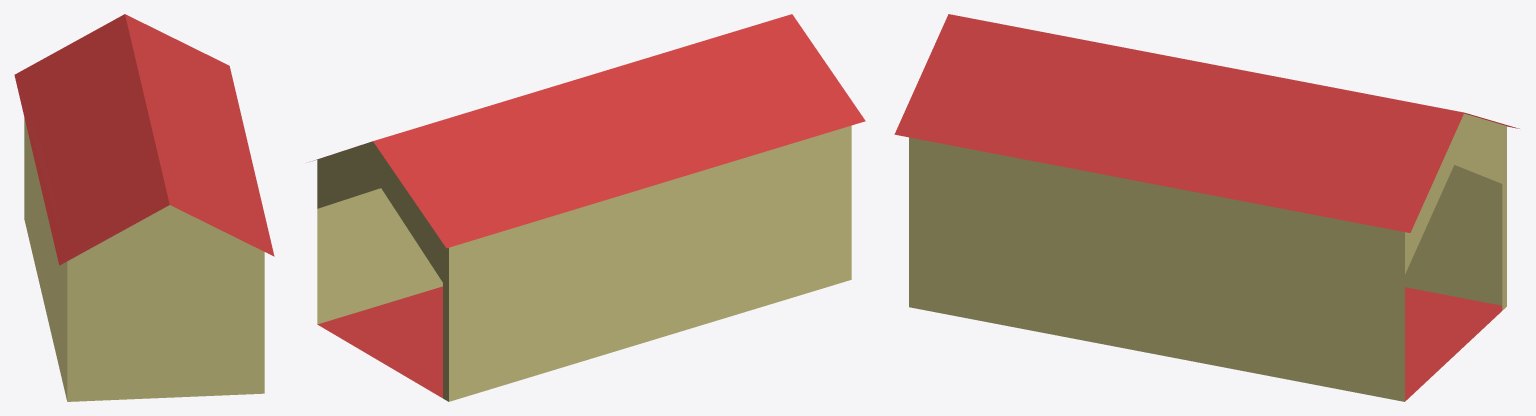
3 renders of one model, left to right at view 1: azimuth 30°, elevation 25°; view 2: azimuth 150°, elevation 25°; view 3: azimuth 270°, elevation 25°, orthographic. The views are drawn at different scales.
Bounding box in the file's own units: 21.54 × 28.19 × 12.16.
